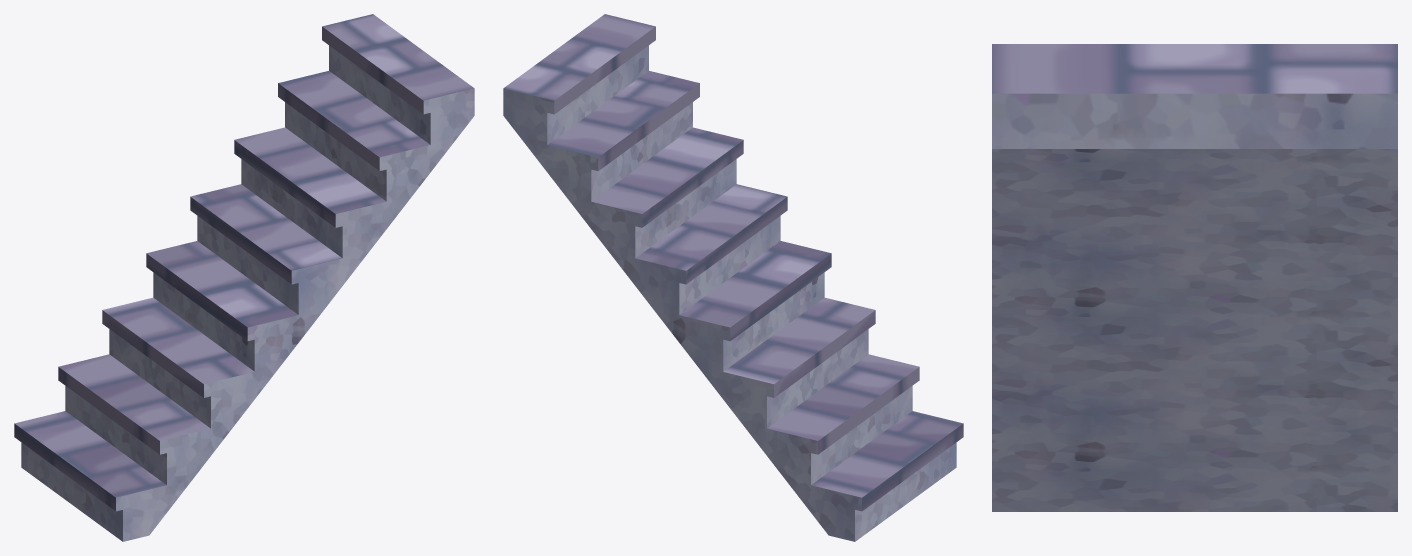
The model's file is stairsStone.fbx.
3 views of the same model, side by side, from view 1: azimuth 30°, elevation 25°; view 2: azimuth 150°, elevation 25°; view 3: azimuth 270°, elevation 25° (orthographic). The views are drawn at different scales.
Visible parts, largest first — view 1: stairsStone; view 2: stairsStone; view 3: stairsStone.
Boxes of the visible parts, left/top/right/bottom form: stairsStone: left=14, top=14, right=474, bottom=541; stairsStone: left=503, top=14, right=963, bottom=541; stairsStone: left=992, top=44, right=1397, bottom=511.
Size of the model in its own units: 102 by 100 by 50.
